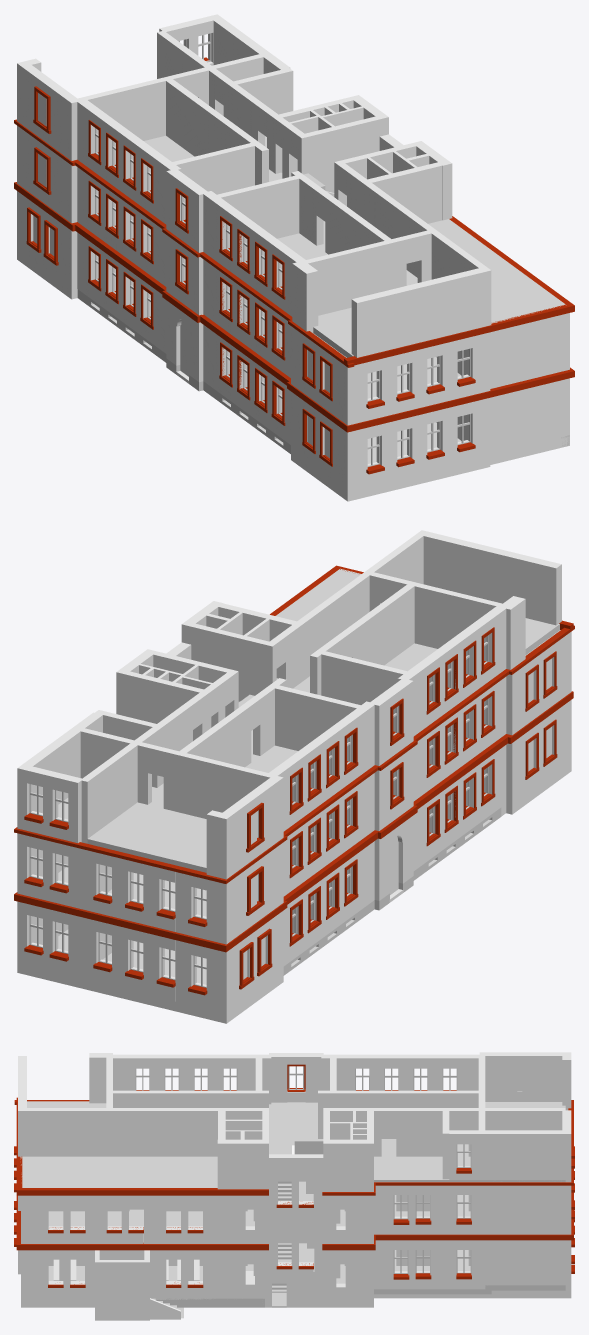
File: horska59.gltf
3 renders of one model, top to bottom at view 1: azimuth 30°, elevation 25°; view 2: azimuth 150°, elevation 25°; view 3: azimuth 270°, elevation 25°, orthographic. The views are drawn at different scales.
Visible parts, largest first — view 1: podlaha.585, podlaha.019, podlaha.328, podlaha.540, podlaha.543, podlaha.555, podlaha.549, podlaha.541, podlaha.581, podlaha.821, podlaha.674, podlaha.739 (+76 smaller); view 2: podlaha.585, podlaha.550, podlaha.549, podlaha.580, podlaha.739, podlaha.579, podlaha.821, podlaha.541, podlaha.540, podlaha.673, podlaha.555, podlaha.676 (+81 smaller); view 3: podlaha.543, podlaha.675, podlaha.578, podlaha.784, podlaha.267, podlaha.676, podlaha.281, podlaha.724, podlaha.672, podlaha.555, podlaha.580, podlaha.739 (+96 smaller).
Boxes of the visible parts, <box> form: podlaha.585: <box>351,268,487,357</box>; podlaha.019: <box>490,380,560,455</box>; podlaha.328: <box>490,315,560,388</box>; podlaha.540: <box>303,241,389,315</box>; podlaha.543: <box>407,219,566,323</box>; podlaha.555: <box>166,79,234,156</box>; podlaha.549: <box>75,76,172,159</box>; podlaha.541: <box>214,175,299,238</box>; podlaha.581: <box>305,116,379,191</box>; podlaha.821: <box>170,142,255,194</box>; podlaha.674: <box>367,162,442,223</box>; podlaha.739: <box>325,196,391,254</box>; podlaha.585: <box>420,531,561,625</box>; podlaha.550: <box>87,802,206,872</box>; podlaha.549: <box>175,751,278,818</box>; podlaha.580: <box>81,743,137,843</box>; podlaha.739: <box>345,583,414,665</box>; podlaha.579: <box>191,623,268,701</box>; podlaha.821: <box>275,685,360,750</box>; podlaha.541: <box>321,651,410,704</box>; podlaha.540: <box>413,583,503,648</box>; podlaha.673: <box>126,671,204,740</box>; podlaha.555: <box>180,704,251,767</box>; podlaha.676: <box>308,576,366,650</box>; podlaha.543: <box>20,1156,217,1187</box>; podlaha.675: <box>18,1108,130,1156</box>; podlaha.578: <box>471,1185,566,1234</box>; podlaha.784: <box>471,1130,566,1182</box>; podlaha.267: <box>471,1240,566,1290</box>; podlaha.676: <box>118,1108,199,1156</box>; podlaha.281: <box>95,1260,149,1320</box>; podlaha.724: <box>396,1108,443,1156</box>; podlaha.672: <box>374,1156,491,1182</box>; podlaha.555: <box>374,1090,478,1138</box>; podlaha.580: <box>485,1108,565,1130</box>; podlaha.739: <box>113,1090,212,1107</box>.
Size of the model in its own units: 355 by 258 by 800.
